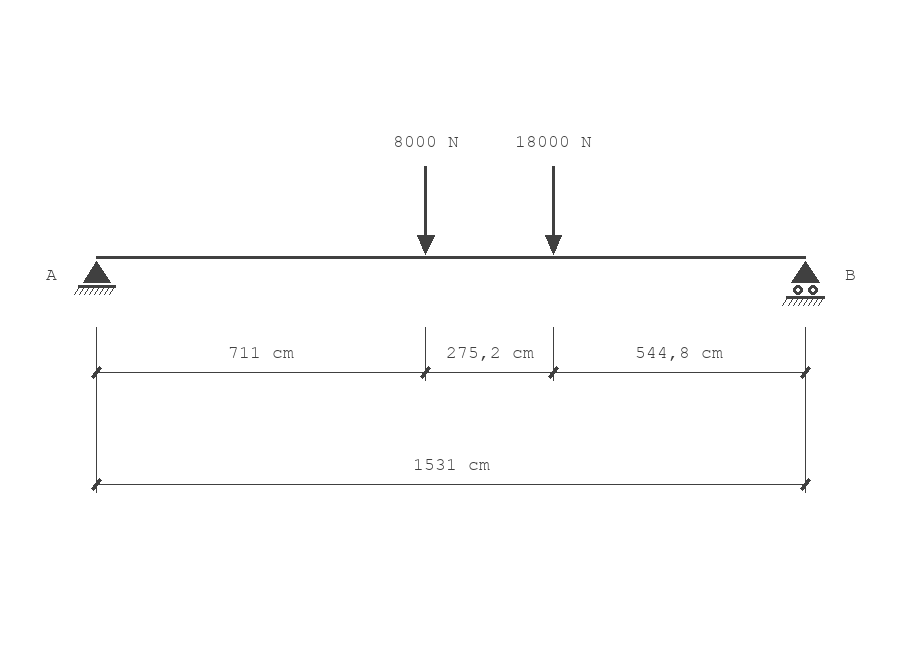pin_support: (74, 261, 116, 295)
point_load: (417, 166, 435, 255), (545, 166, 562, 255)
roller_support: (782, 261, 825, 306)
